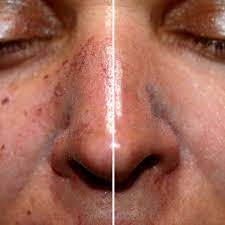Melasma: (35, 174, 101, 225), (134, 80, 188, 133), (146, 153, 175, 217), (107, 0, 107, 70)
